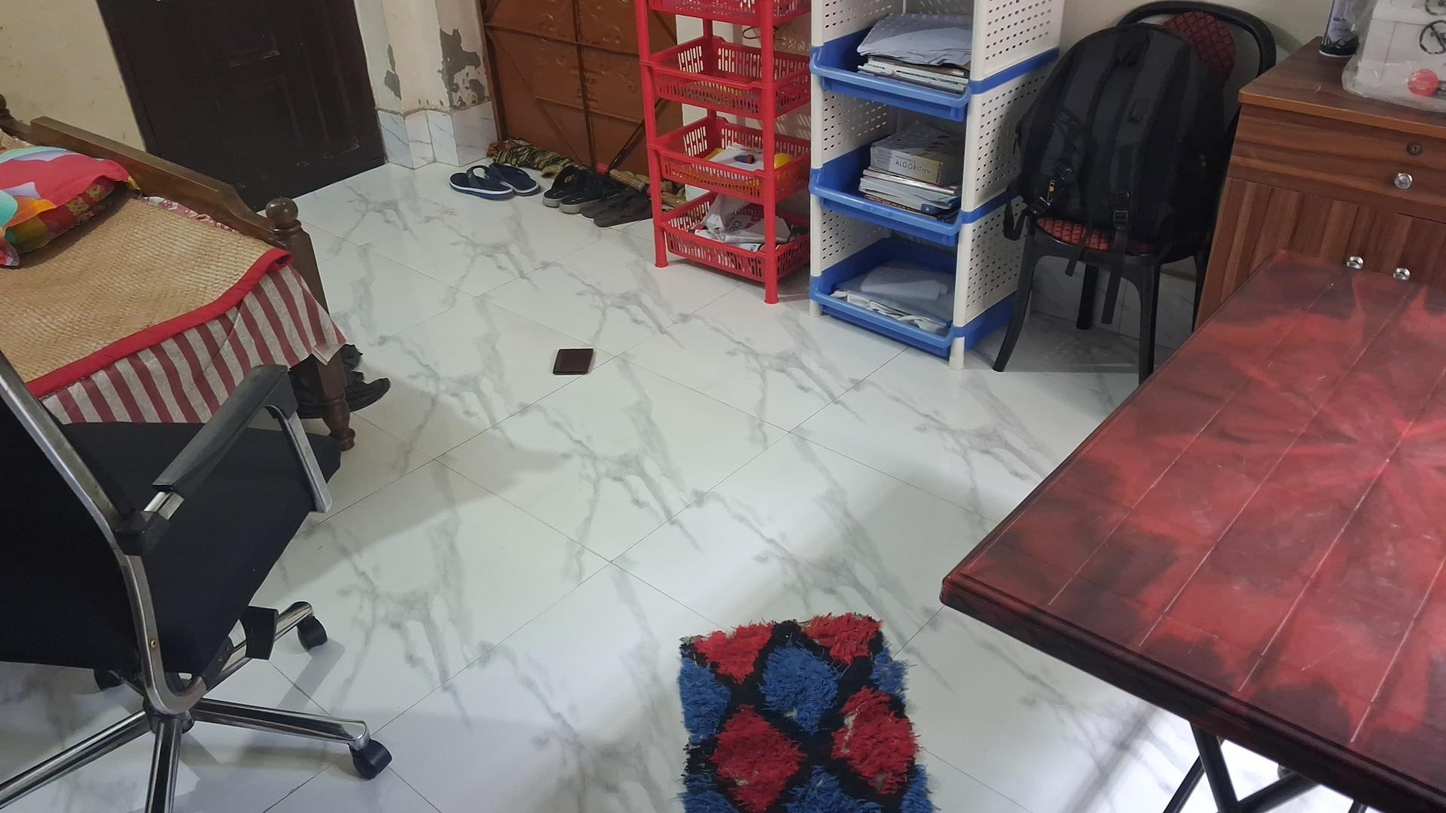Bag: (1028, 26, 1215, 254)
Chair: (0, 343, 395, 810), (991, 2, 1278, 383)
Floor Mat: (679, 610, 933, 813)
Footwear: (543, 165, 636, 214), (449, 164, 540, 203), (581, 192, 667, 226)
Moneybag: (553, 348, 593, 374)
Rack: (812, 0, 1068, 370), (635, 5, 813, 303)
Table: (938, 254, 1446, 813)
